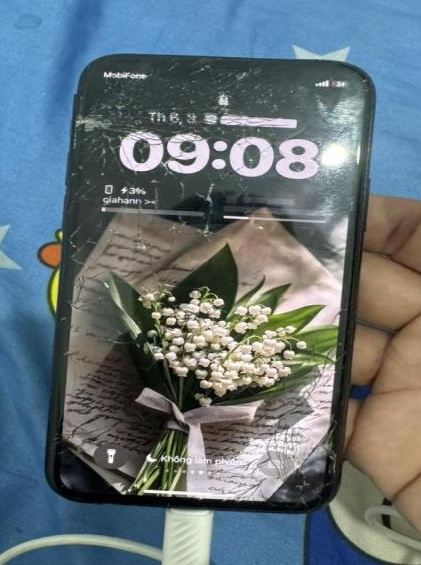physical_damage: (70, 76, 150, 167), (299, 344, 366, 403), (61, 260, 129, 317), (55, 316, 155, 354), (211, 461, 276, 509), (116, 210, 178, 258), (278, 465, 342, 511), (179, 210, 244, 254), (67, 210, 117, 264), (151, 91, 212, 134), (151, 52, 216, 92), (50, 424, 107, 469), (321, 305, 369, 357), (72, 171, 135, 210), (281, 394, 344, 433), (58, 356, 94, 422), (149, 135, 217, 168), (180, 170, 231, 212), (227, 418, 280, 458), (279, 431, 341, 465), (216, 56, 261, 100), (234, 168, 280, 211), (263, 117, 321, 150), (215, 101, 261, 141), (263, 82, 314, 117), (136, 169, 180, 207), (215, 142, 261, 168)
